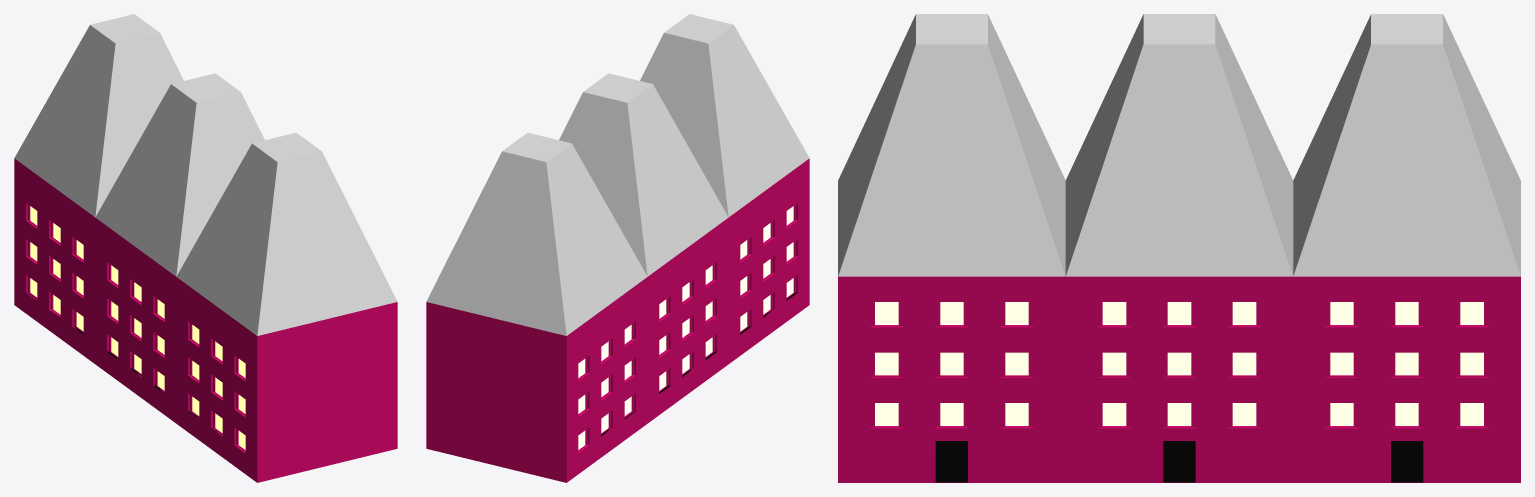
The model's file is 3_storey_house_3(3).fbx.
3 views of the same model, side by side, from view 1: azimuth 30°, elevation 25°; view 2: azimuth 150°, elevation 25°; view 3: azimuth 270°, elevation 25° (orthographic). The views are drawn at different scales.
Visible parts, largest first — view 1: Cube; view 2: Cube; view 3: Cube.
Part boxes in pixels (box(x1,y1,x2,y2)): Cube: box(14, 14, 397, 482); Cube: box(426, 14, 809, 482); Cube: box(838, 14, 1520, 482).
Size of the model in its own units: 28 by 55.07 by 84.
